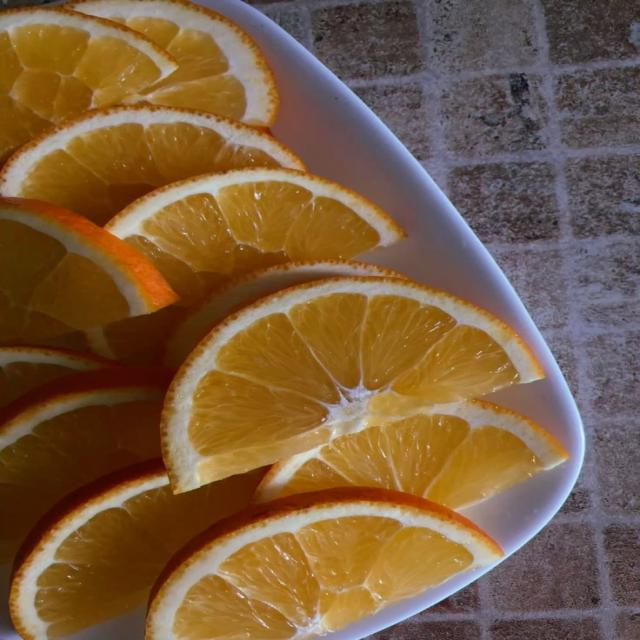orange: (162, 277, 542, 491), (146, 488, 502, 639), (10, 460, 260, 639), (106, 168, 404, 303), (0, 104, 303, 223), (255, 400, 567, 510), (0, 368, 166, 559), (0, 8, 178, 163), (66, 0, 278, 126), (0, 198, 177, 345), (163, 260, 403, 368), (0, 347, 114, 407)
